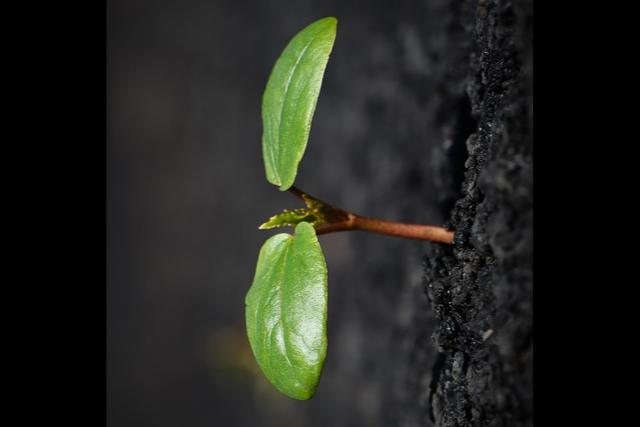Non_Gorille: (144, 0, 485, 409)
